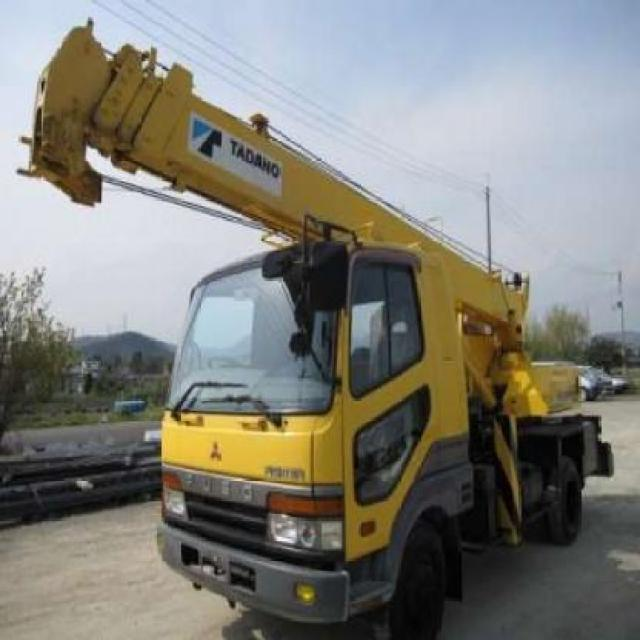truck: (17, 26, 614, 626)
